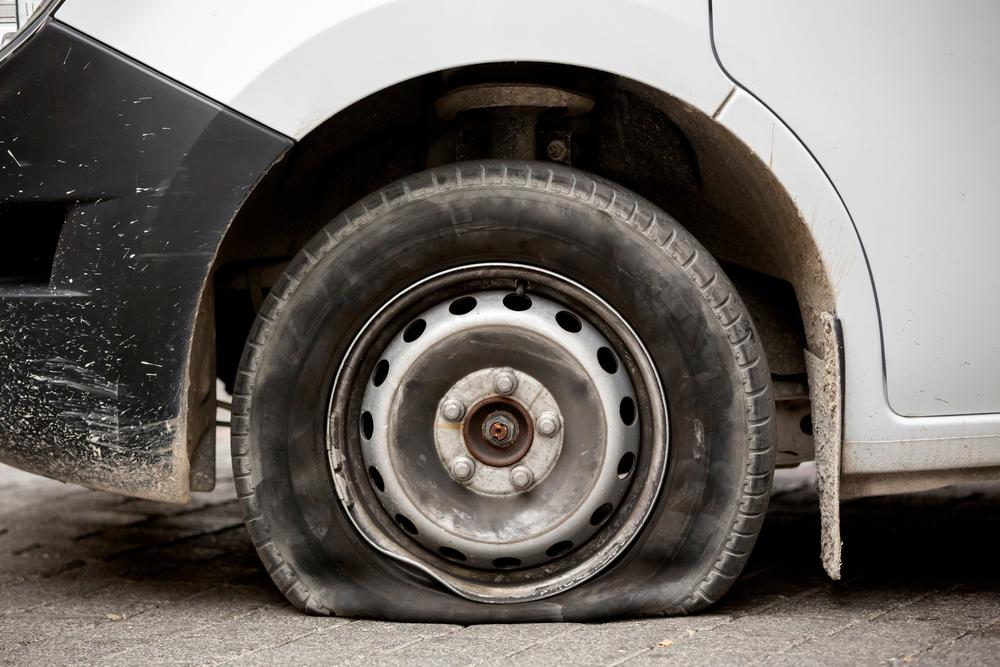tire flat: (229, 157, 776, 624)
